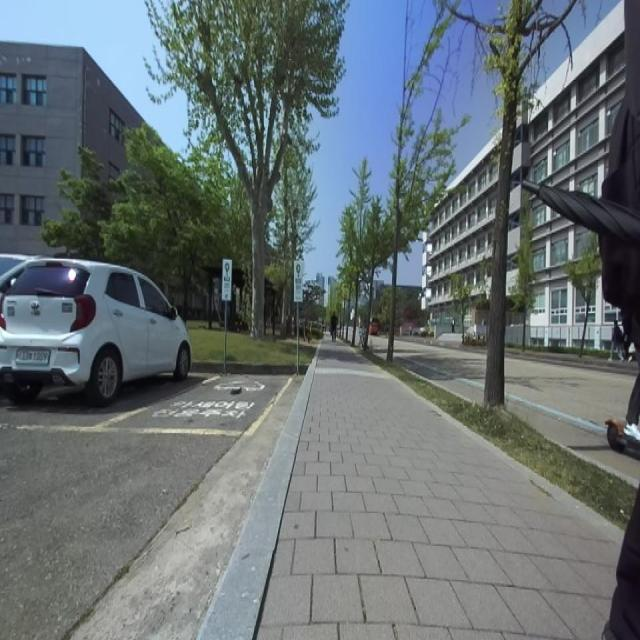sidewalk: (258, 340, 623, 639), (197, 354, 317, 640)
